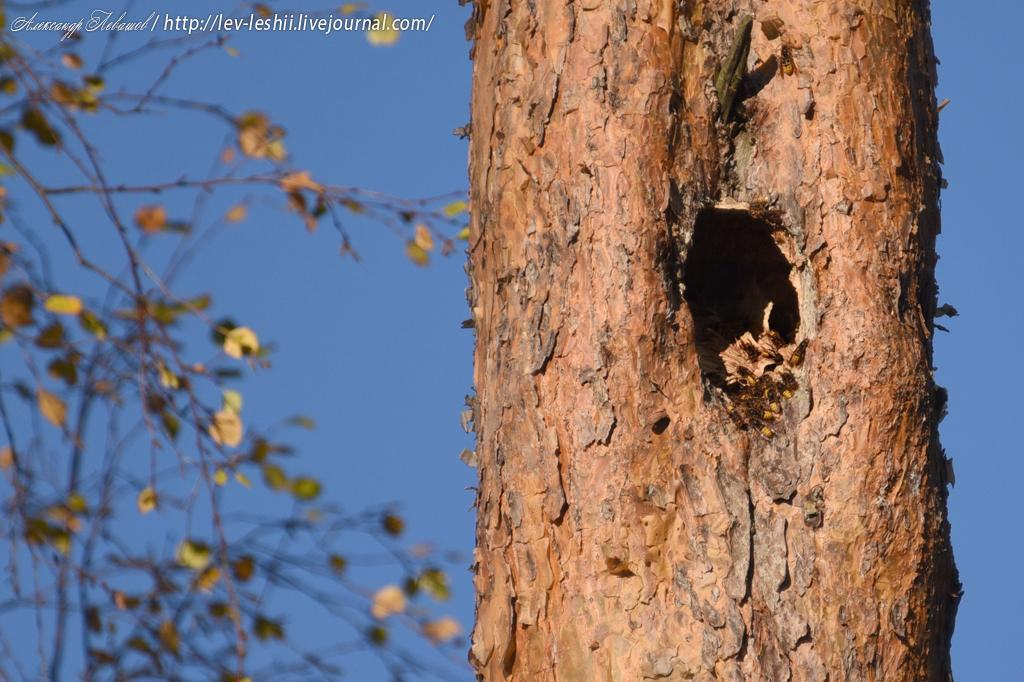hollow: (683, 208, 798, 379)
